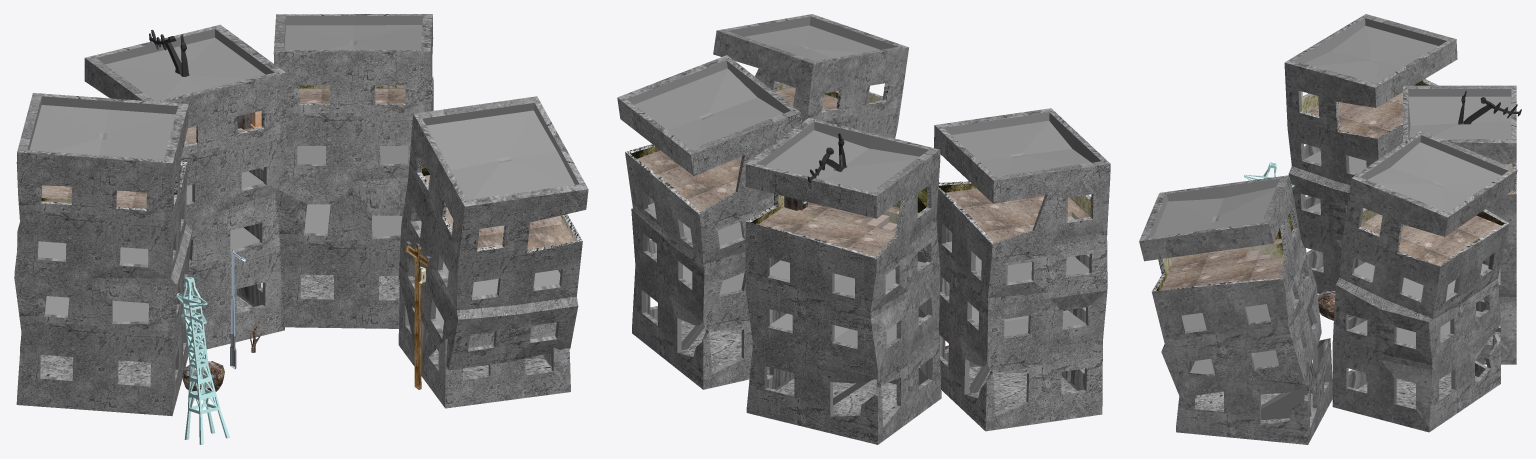
File: psxcity.glb
The picture shows the model from 3 angles, left to right: view 1: azimuth 30°, elevation 25°; view 2: azimuth 150°, elevation 25°; view 3: azimuth 270°, elevation 25°; orthographic projection. The views are drawn at different scales.
Parts seen in each view (by area): view 1: ruinedbuilding.007, ruinedbuilding.009, ruinedbuilding.008, ruinedbuilding.006, torre.001, Palo.001, farola.001, Sphere.003; view 2: ruinedbuilding.006, ruinedbuilding.007, ruinedbuilding.008, ruinedbuilding.009; view 3: ruinedbuilding.008, ruinedbuilding.009, ruinedbuilding.007, ruinedbuilding.006, Sphere.003.
Boxes of the visible parts, <box> form: ruinedbuilding.007: <box>14,93,192,415</box>; ruinedbuilding.009: <box>398,96,588,408</box>; ruinedbuilding.008: <box>273,14,433,328</box>; ruinedbuilding.006: <box>84,24,286,349</box>; torre.001: <box>176,277,229,444</box>; Palo.001: <box>406,241,430,389</box>; farola.001: <box>230,249,246,369</box>; Sphere.003: <box>182,360,224,394</box>; ruinedbuilding.006: <box>745,117,941,444</box>; ruinedbuilding.007: <box>934,108,1110,431</box>; ruinedbuilding.008: <box>617,55,802,389</box>; ruinedbuilding.009: <box>713,14,908,138</box>; ruinedbuilding.008: <box>1332,130,1517,432</box>; ruinedbuilding.009: <box>1139,175,1332,444</box>; ruinedbuilding.007: <box>1284,14,1457,293</box>; ruinedbuilding.006: <box>1403,85,1521,364</box>; Sphere.003: <box>1317,291,1351,320</box>.
Bounding box in the file's own units: 10.56 × 6.17 × 8.55.
Materials: 17 (11 with a texture image).
